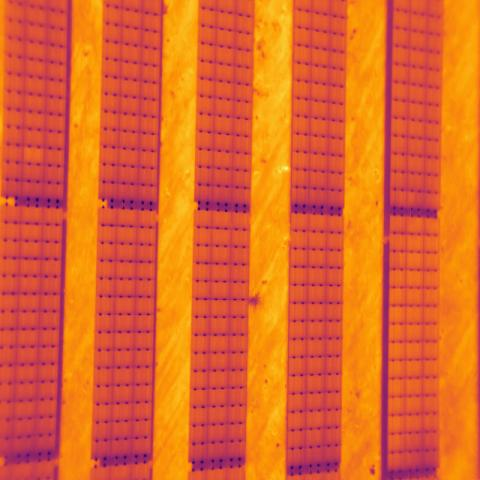fault: (24, 145, 44, 164)
